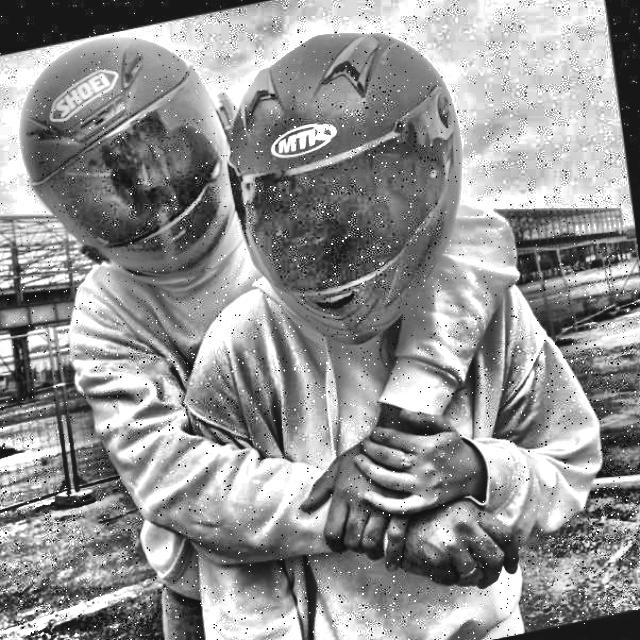Helmet: (203, 0, 495, 373), (0, 3, 250, 307)
